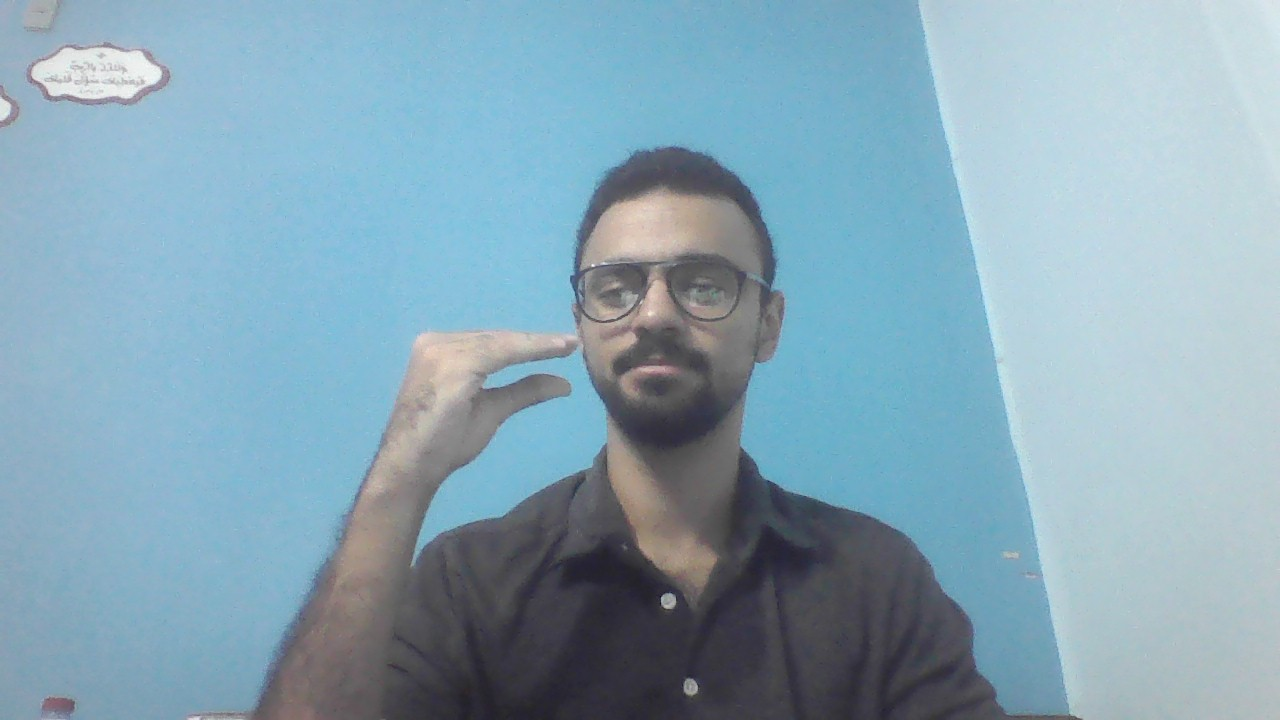eat: (378, 325, 580, 475)
